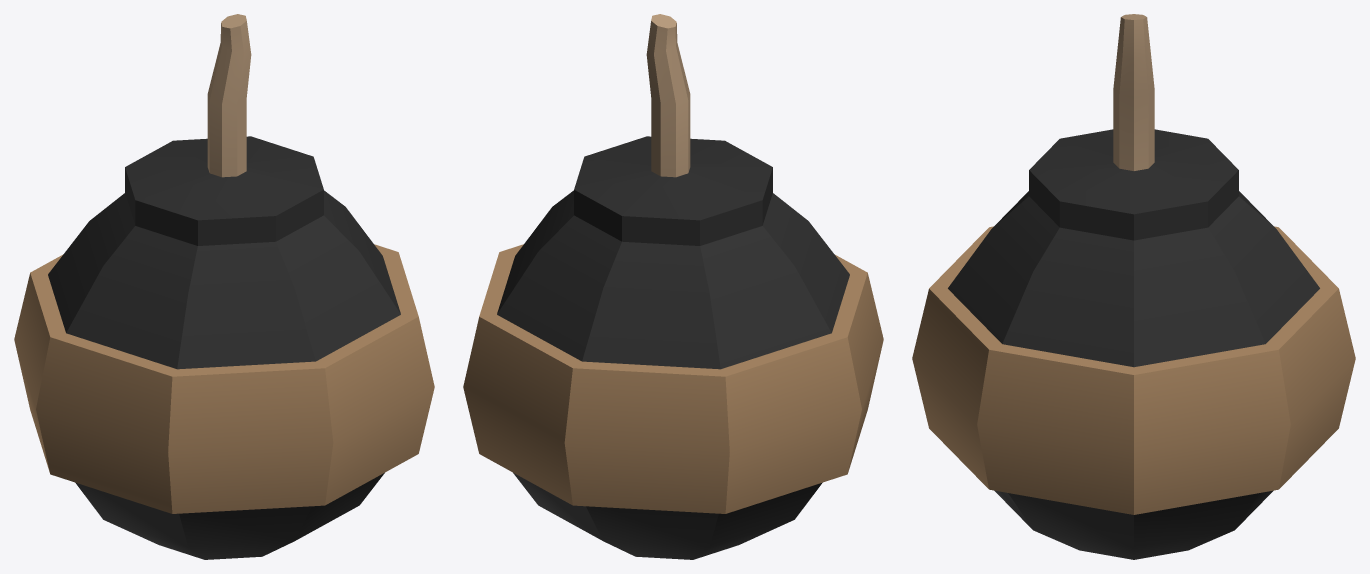
The model's file is Grenade_02.fbx.
3 renders of one model, left to right at view 1: azimuth 30°, elevation 25°; view 2: azimuth 150°, elevation 25°; view 3: azimuth 270°, elevation 25°, orthographic.
Parts seen in each view (by area): view 1: Grenade_02_LOD0; view 2: Grenade_02_LOD0; view 3: Grenade_02_LOD0.
Boxes of the visible parts, bbox=[...] form: Grenade_02_LOD0: bbox=[14, 14, 434, 559]; Grenade_02_LOD0: bbox=[463, 14, 883, 559]; Grenade_02_LOD0: bbox=[912, 14, 1355, 559].
Size of what is drawn, in the model's own units: 0.1403 by 0.1808 by 0.1403.
